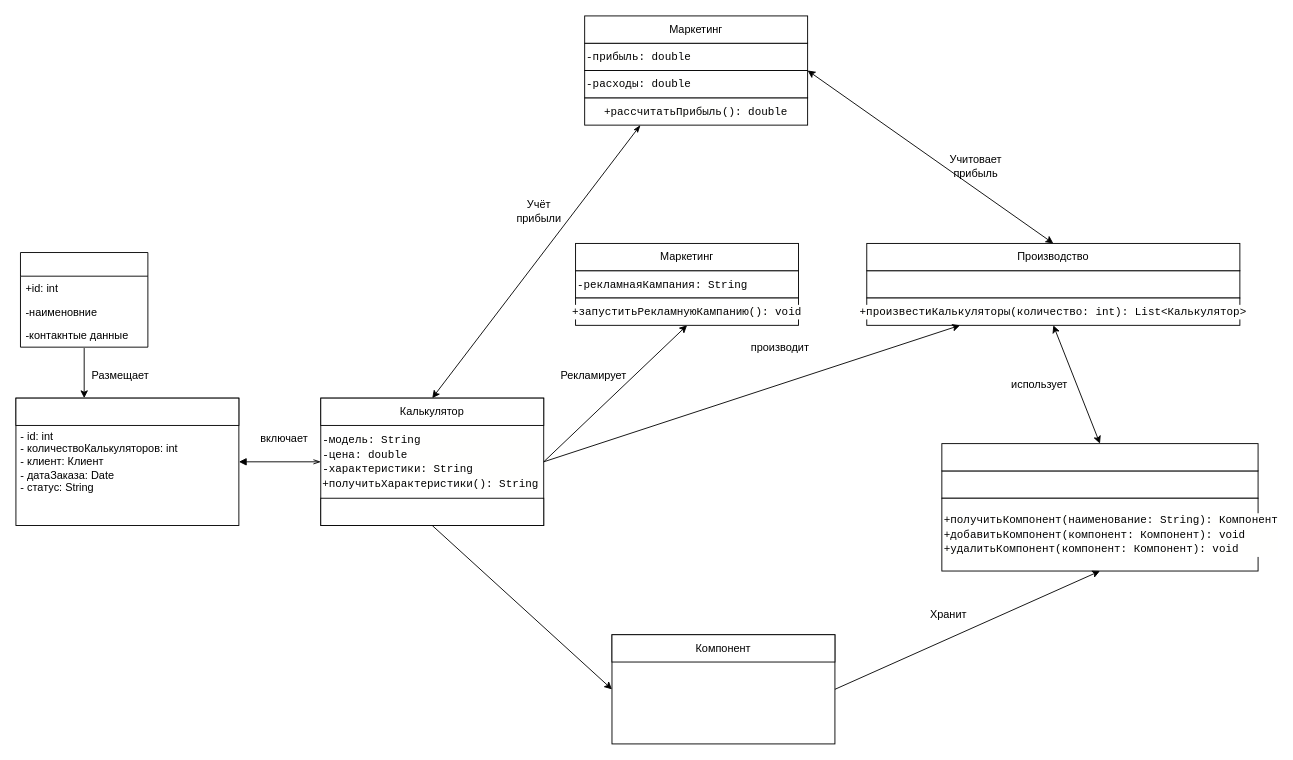
This 1293x760 diagram has some shape labels left out. The box of each missing label's shape, as (x1, y1, x2, y2) in pixels:
+получитьХарактеристики(): String: (320, 497, 544, 526)
-компоненты: List<Компонент>: (941, 470, 1258, 498)
-наименование: String -количество: int -ценаЗаЕдиницу: double: (611, 634, 835, 744)
-эффективность: double: (866, 270, 1240, 298)
Заказ: (15, 397, 239, 425)
Клиент: (20, 252, 148, 347)
Склад: (941, 443, 1258, 471)
